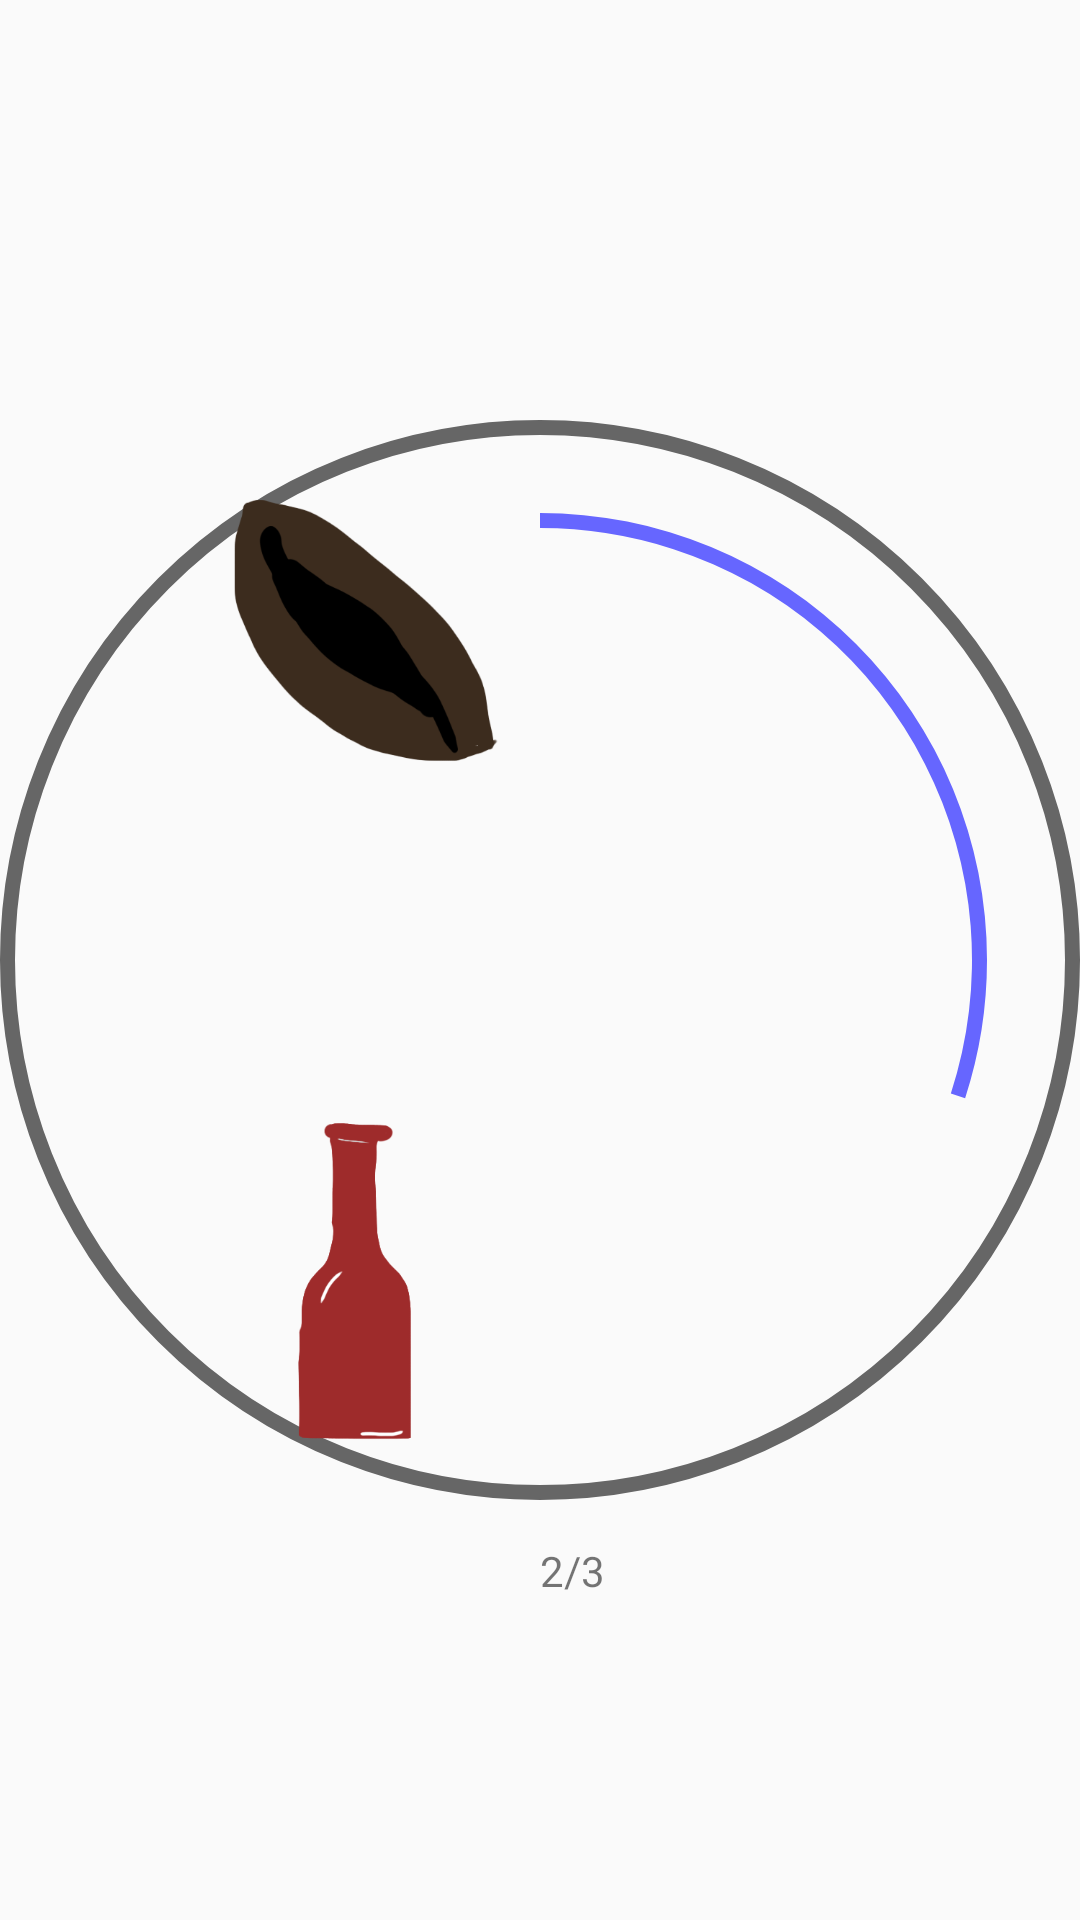

Where icons sit on this 1080px x 1920px app screen, as (x1=x1, y1=y1, x2=x2, y2=y2):
caffiene: (x1=180, y1=420, x2=540, y2=761)
